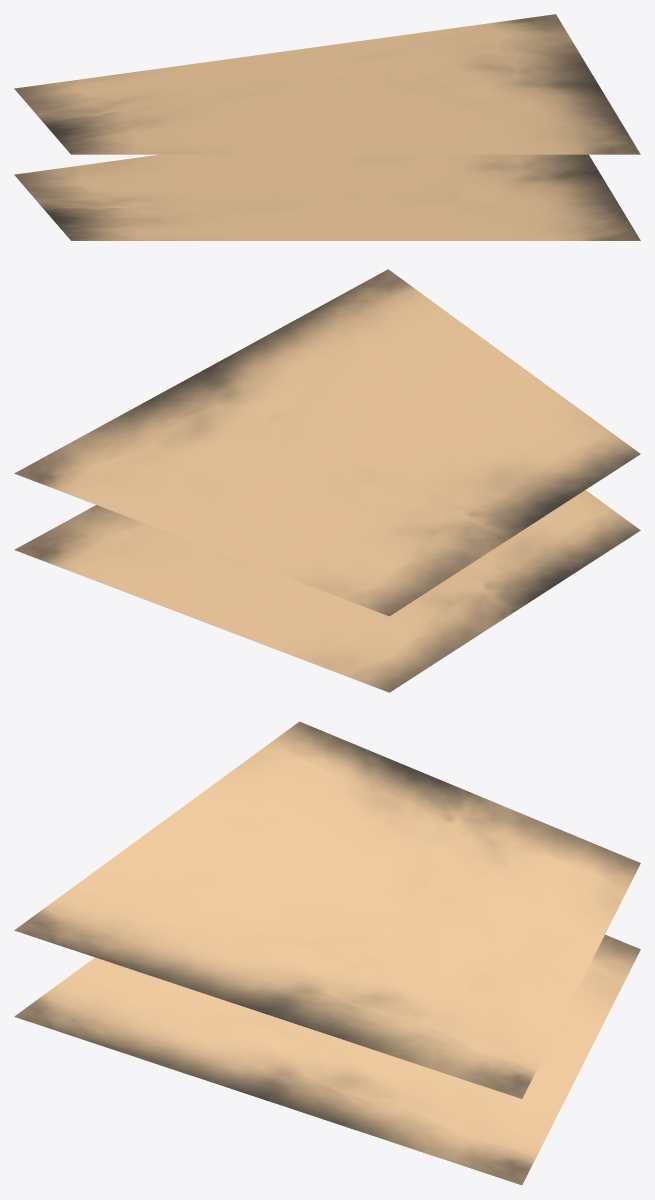
File: CourseSummer_CurveFloor_9_1.fbx
3 renders of one model, top to bottom at view 1: azimuth 30°, elevation 25°; view 2: azimuth 150°, elevation 25°; view 3: azimuth 270°, elevation 25°, orthographic. The views are drawn at different scales.
Visible parts, largest first — view 1: polySurface379; view 2: polySurface379; view 3: polySurface379.
Part boxes in pixels (<box>): polySurface379: <box>14,14,640,240</box>; polySurface379: <box>14,269,640,692</box>; polySurface379: <box>14,721,640,1185</box>.
Size of the model in its own units: 7.25 by 2 by 6.59.
Materials: 1 (1 with a texture image).
